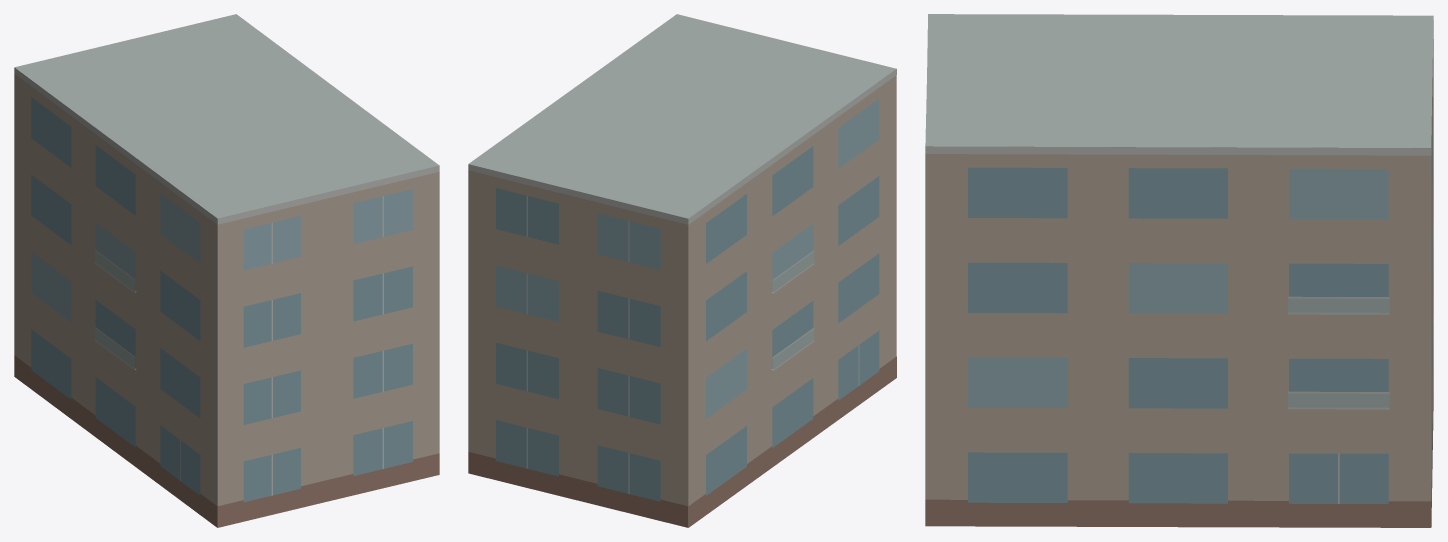
File: residential-023ee820-c874-49b0-b36b-9c8d8d8f54cb.glb
3 renders of one model, left to right at view 1: azimuth 30°, elevation 25°; view 2: azimuth 150°, elevation 25°; view 3: azimuth 270°, elevation 25°, orthographic. The views are drawn at different scales.
Visible parts, largest first — view 1: residential-023ee820-c874-49b0-b36b-9c8d8d8f54cb.tmp; view 2: residential-023ee820-c874-49b0-b36b-9c8d8d8f54cb.tmp; view 3: residential-023ee820-c874-49b0-b36b-9c8d8d8f54cb.tmp.
Part boxes in pixels (box(x1,y1,x2,y2)): residential-023ee820-c874-49b0-b36b-9c8d8d8f54cb.tmp: box(14, 14, 439, 527); residential-023ee820-c874-49b0-b36b-9c8d8d8f54cb.tmp: box(468, 14, 896, 527); residential-023ee820-c874-49b0-b36b-9c8d8d8f54cb.tmp: box(925, 14, 1433, 527).
Size of the model in its own units: 9.27 by 12.2 by 14.81.
